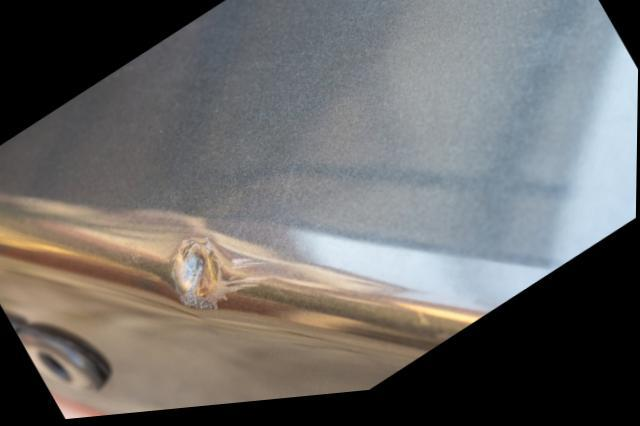scratch: (163, 238, 294, 319)
